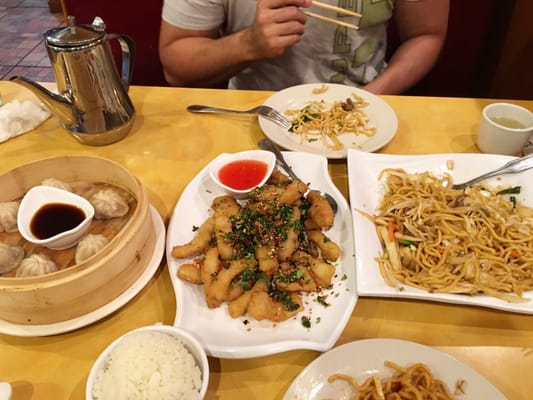pizza: (43, 22, 137, 142), (17, 185, 95, 251), (476, 102, 533, 157)
sandwich: (451, 154, 533, 189)
sushi: (167, 149, 359, 358), (346, 149, 533, 316), (0, 154, 159, 326), (279, 337, 517, 400), (84, 325, 210, 400), (208, 149, 277, 196)
